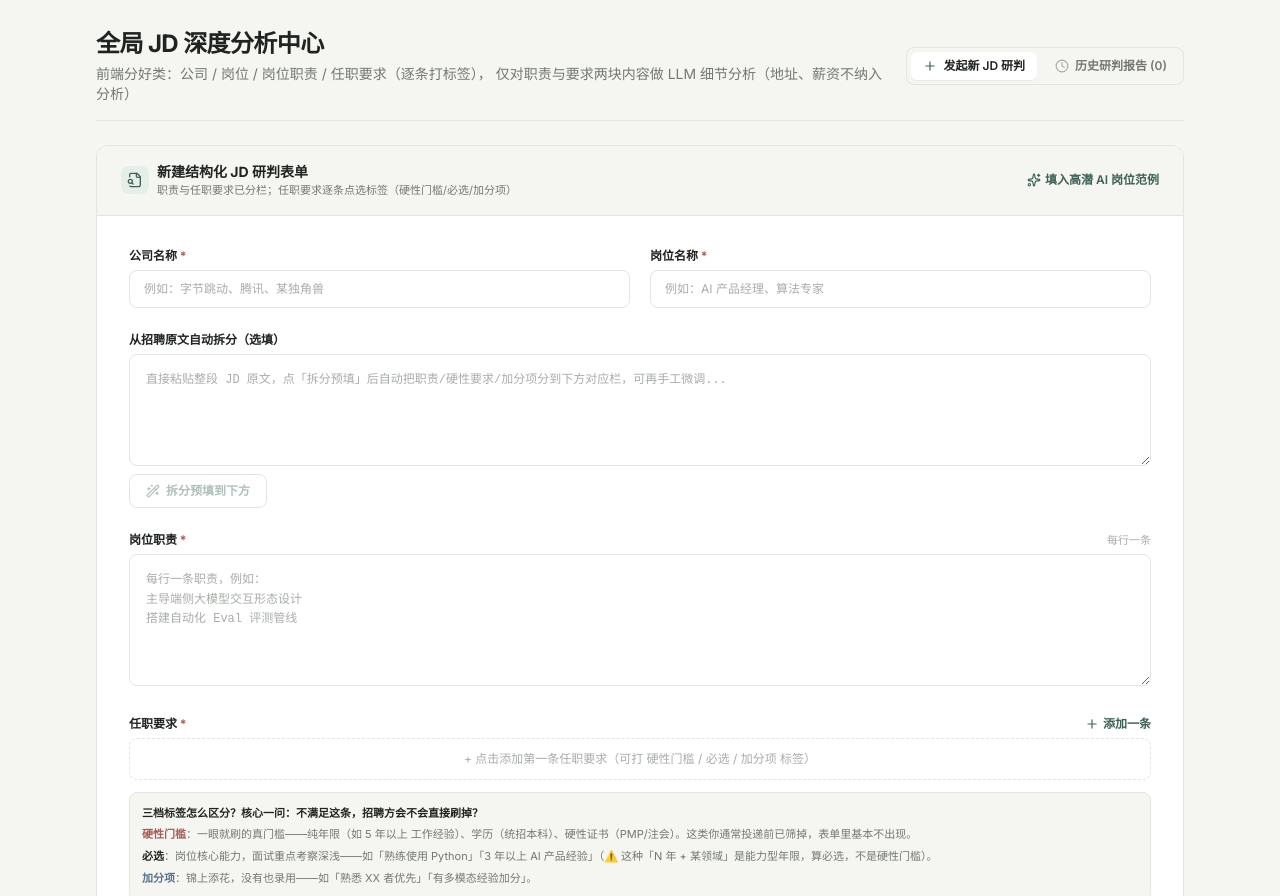
历史表格 · 客户端分页（T-M4-4） › 搜索词变化重置到第 1 页
The image size is (1280, 896).
Step 1. Click the button "历史研判报告 (0)" → (1111, 66), box [1043,52,1179,80]
(page scrolled)
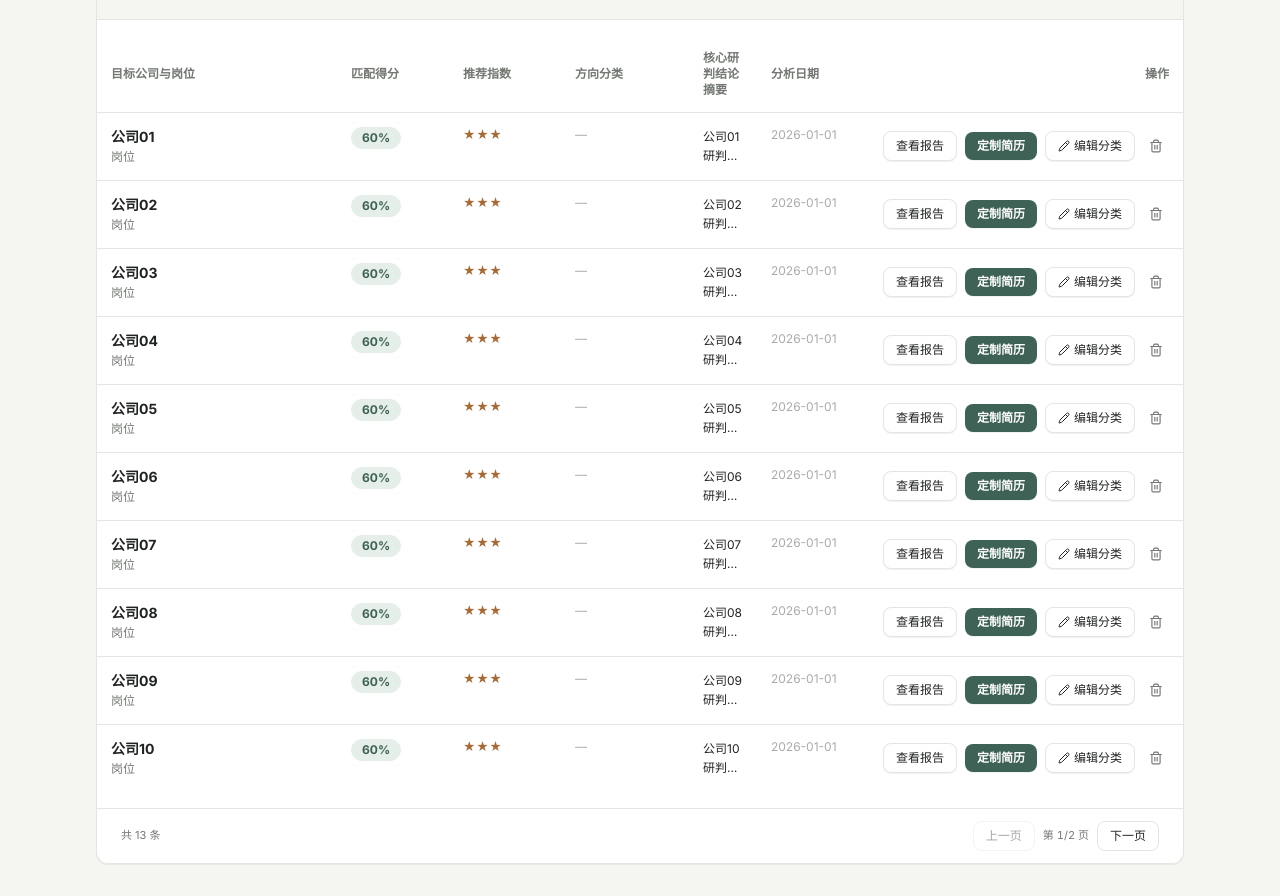
Step 2. Click the button with test id "jd-history-next" → (1128, 836), box [1097,820,1159,850]
(page scrolled)
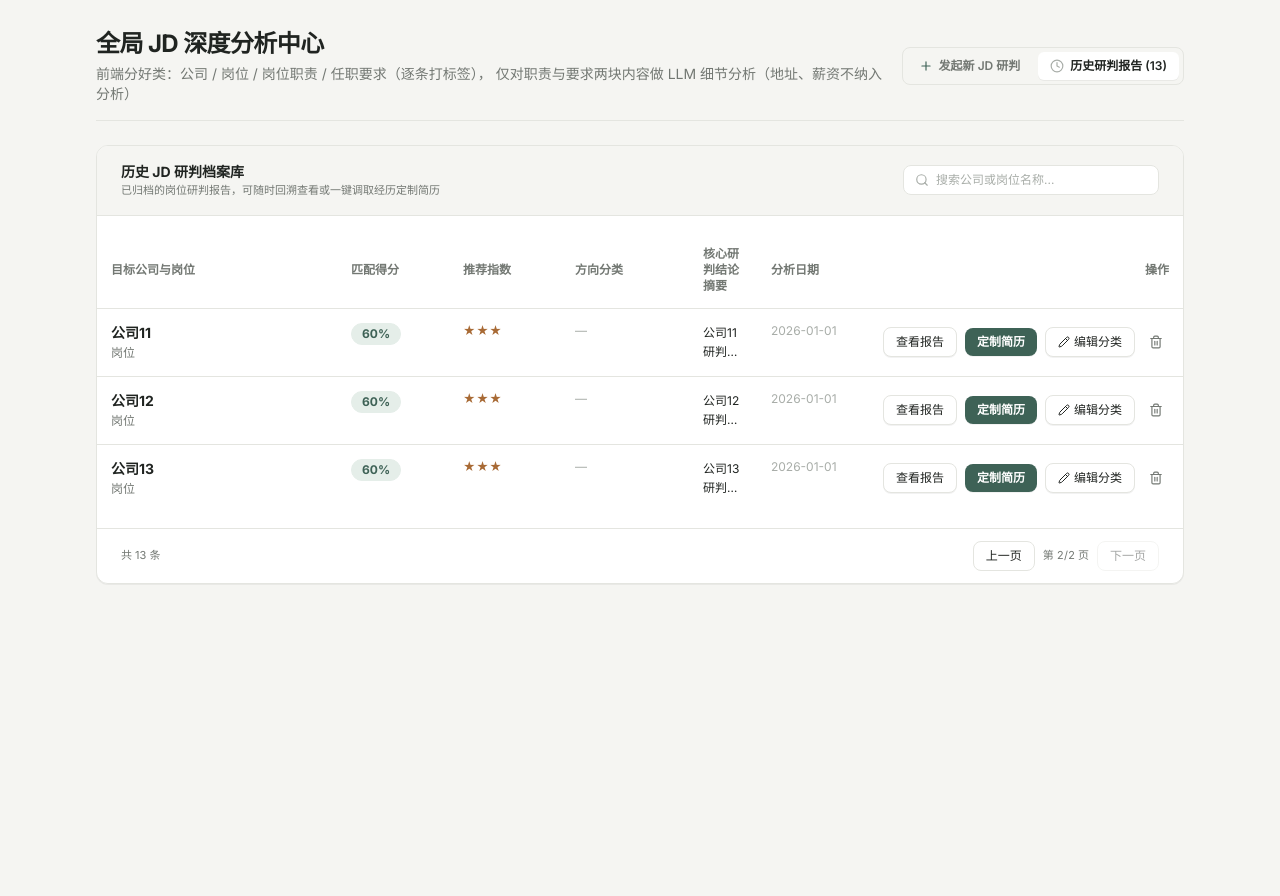
Now the text with test id "jd-history-page-info" reads "第 2/2 页", box [1043,547,1089,564]
Step 3. Type "公司13" into the field with placeholder "搜索公司或岗位名称..." → (1031, 180), box [903,165,1159,195]
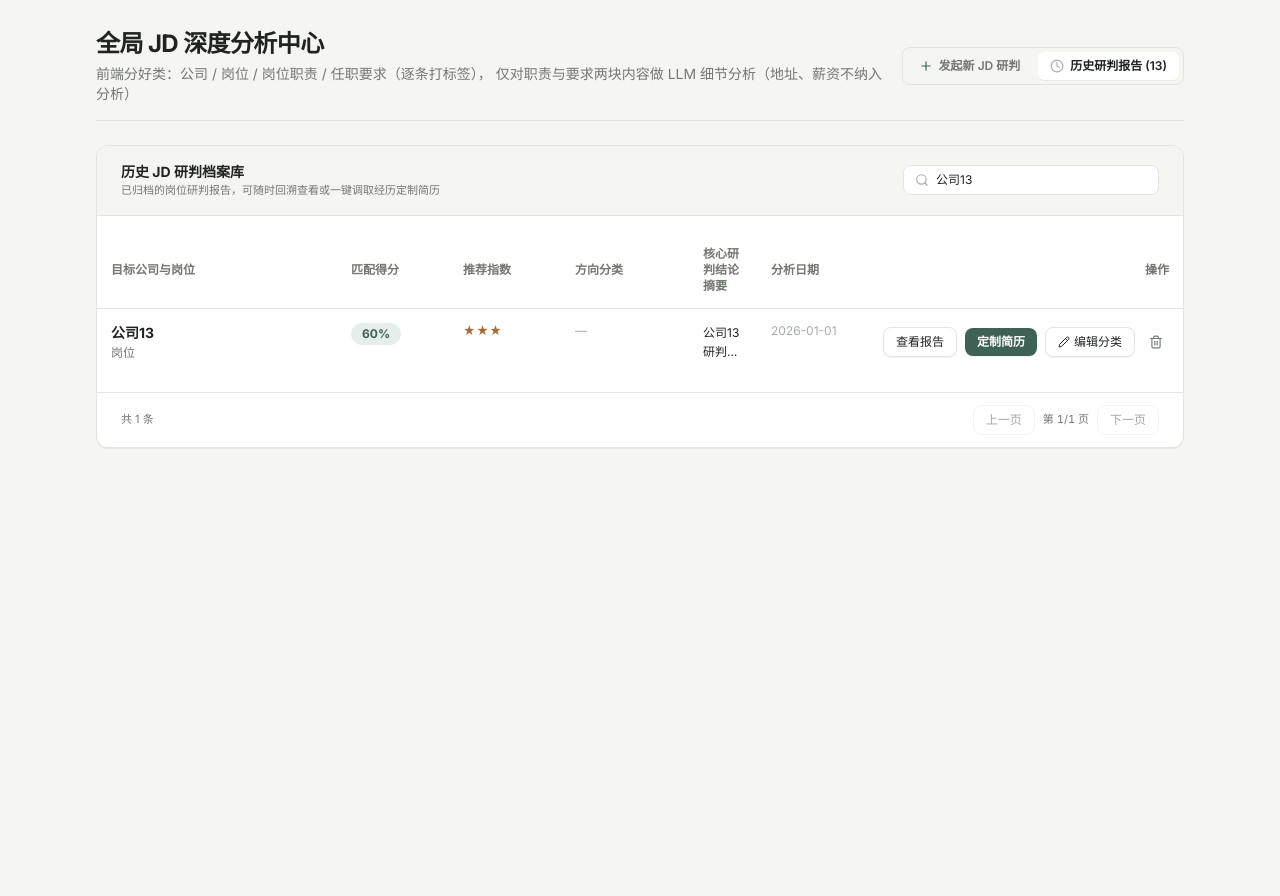
Now the text "公司13" is shown, box [111,324,154,340]
Now the text with test id "jd-history-page-info" reads "第 1/1 页", box [1043,411,1089,428]
Now the element with test id "jd-history-pagination" shows "共 1 条", box [97,392,1183,446]
